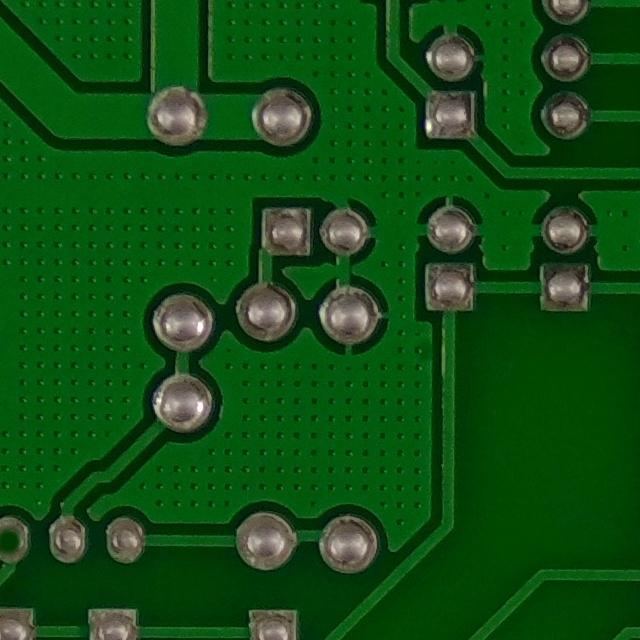missing_hole: (0, 507, 37, 572)
